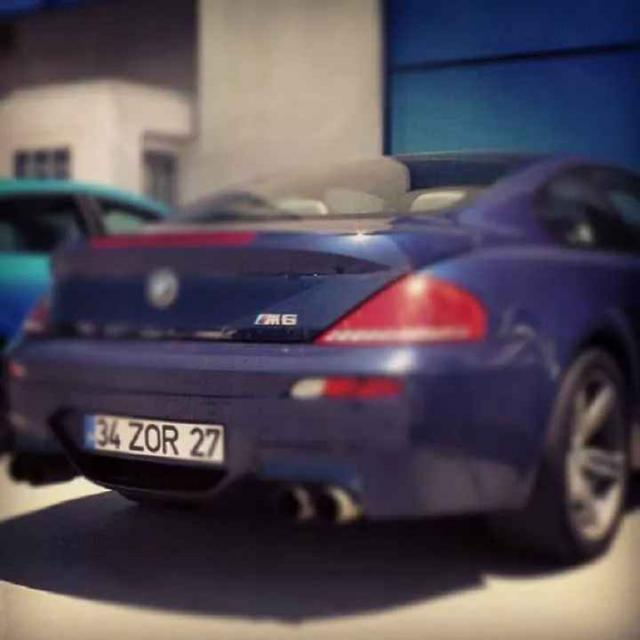plate: (81, 413, 226, 467)
